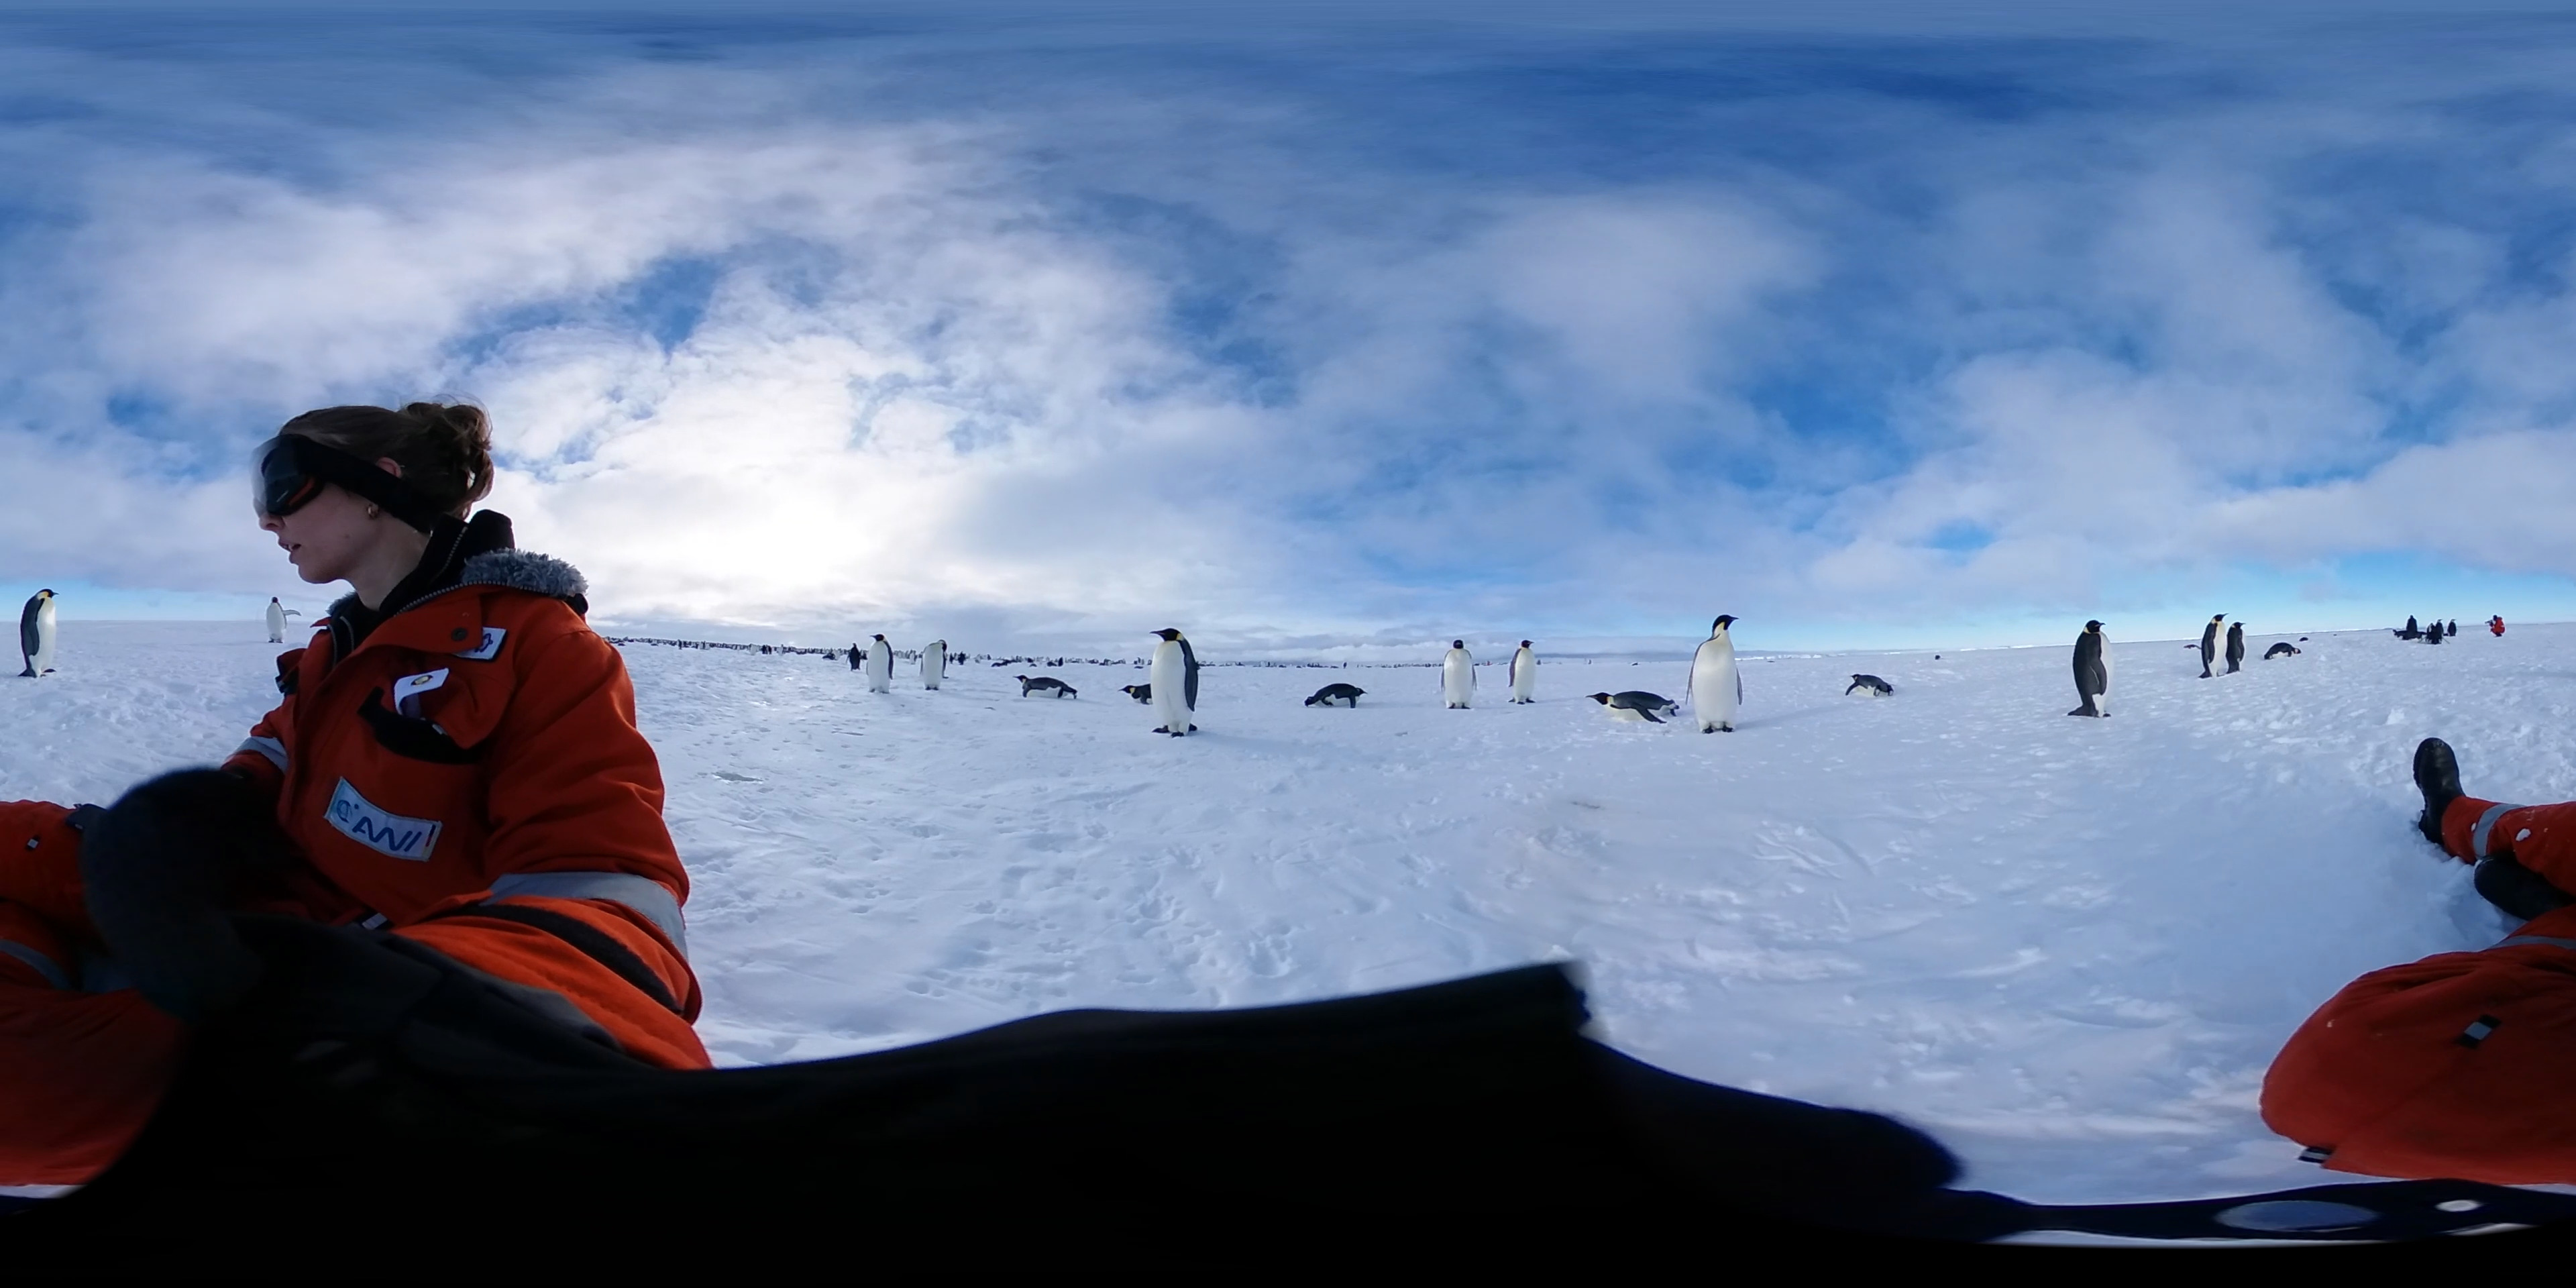adult_standing_penguin: (1684, 609, 1746, 739), (1145, 624, 1199, 743), (2058, 616, 2116, 724), (18, 578, 64, 678), (1437, 637, 1479, 711), (861, 631, 899, 700), (1502, 639, 1541, 705), (261, 595, 307, 644), (918, 636, 950, 693), (2201, 613, 2223, 683), (2224, 621, 2249, 675), (2446, 616, 2459, 639), (2407, 614, 2413, 637)
adult_toboggan_penguin: (1579, 688, 1677, 728), (1010, 670, 1083, 703), (1299, 677, 1365, 713), (1842, 672, 1897, 698), (1117, 680, 1163, 703), (2262, 642, 2302, 659), (2392, 628, 2428, 641)
researcher: (0, 371, 729, 1288), (2484, 613, 2512, 639)
